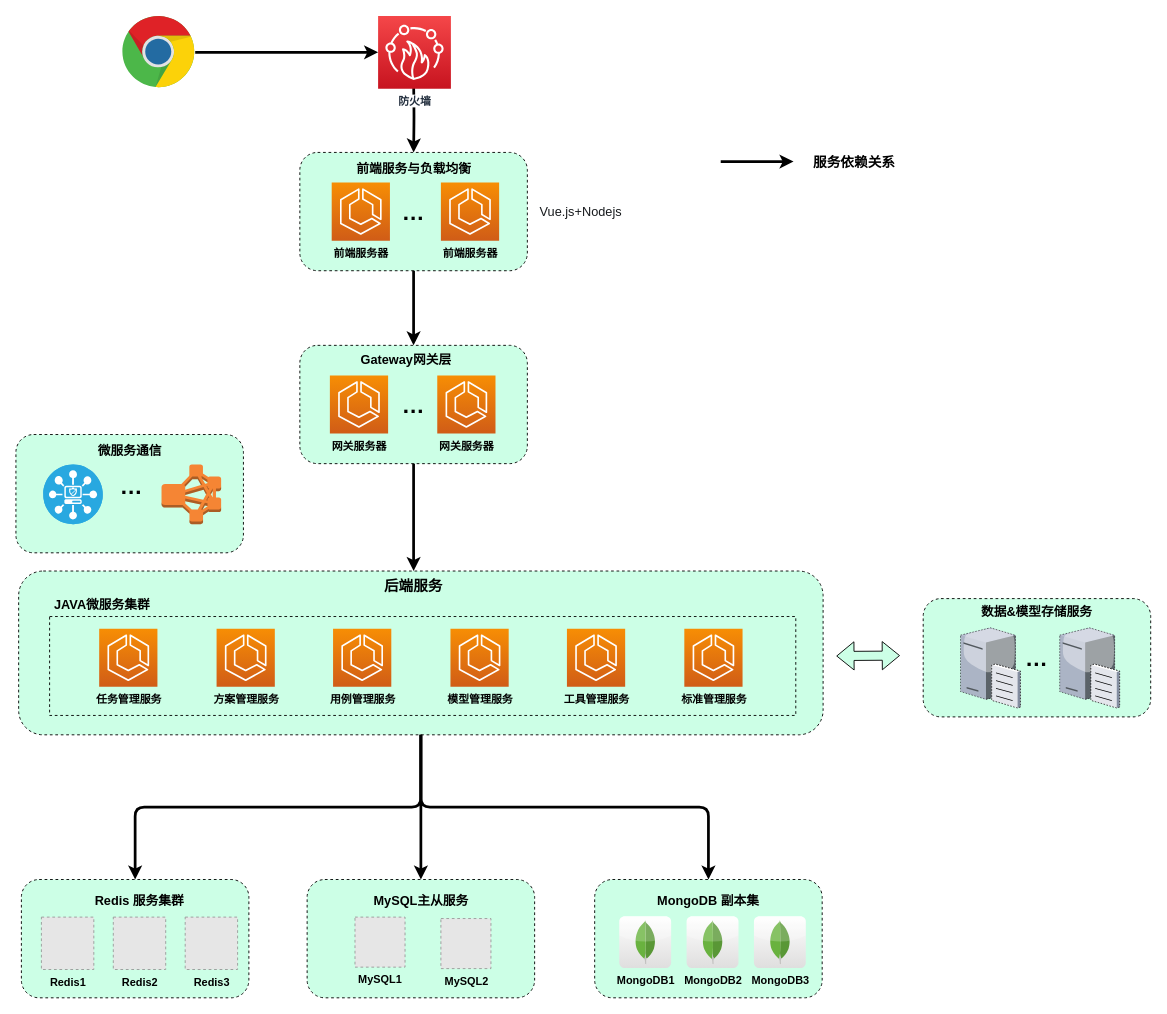
Some shapes in this 1167 by 1014 pixel diagram are drawn without their labels. Grey dashed boxes stand in for pictures. Each missing label, with the centre of its shape:
"dubbo" goes at point (72, 494).
"nacos" goes at point (191, 494).
"客户端浏览器" goes at point (158, 52).
